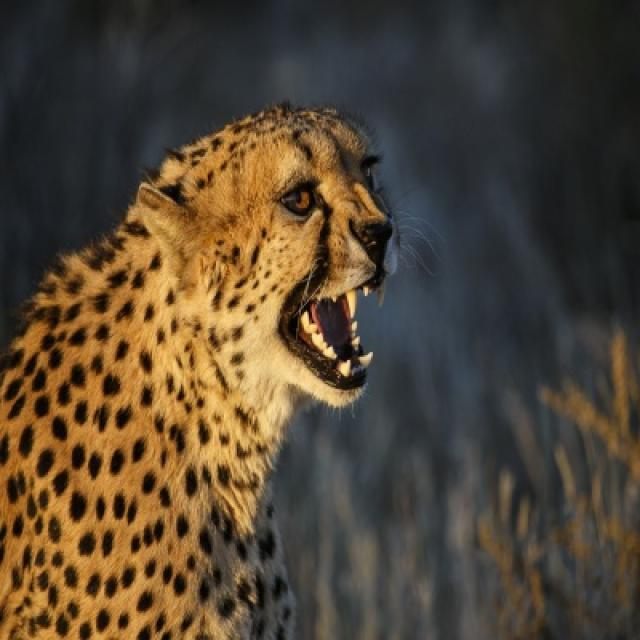Cheetah: (0, 102, 397, 638)
